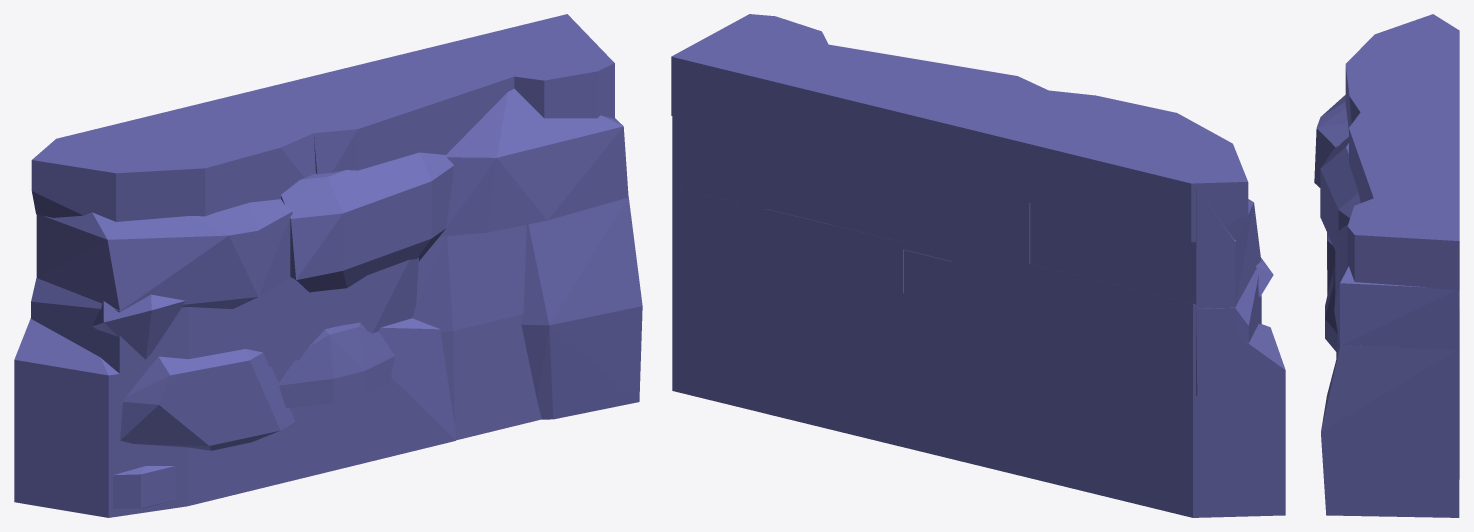
File: Cliff_Corner_03_Collider_01.FBX
3 renders of one model, left to right at view 1: azimuth 30°, elevation 25°; view 2: azimuth 150°, elevation 25°; view 3: azimuth 270°, elevation 25°, orthographic. The views are drawn at different scales.
Parts seen in each view (by area): view 1: COLLIDER5, COLLIDER3, COLLIDER8, COLLIDER7, COLLIDER1, COLLIDER9, COLLIDER11, COLLIDER2, COLLIDER10, COLLIDER12, COLLIDER4, COLLIDER13 (+2 smaller); view 2: COLLIDER5, COLLIDER9, COLLIDER3, COLLIDER1, COLLIDER8, COLLIDER7, COLLIDER10, COLLIDER4, COLLIDER11, COLLIDER2; view 3: COLLIDER8, COLLIDER4, COLLIDER3, COLLIDER1, COLLIDER11, COLLIDER10, COLLIDER7, COLLIDER13, COLLIDER12, COLLIDER9.
Part boxes in pixels (x1=…): COLLIDER5: x1=14, y1=318, x2=455, y2=517; COLLIDER3: x1=31, y1=90, x2=315, y2=221; COLLIDER8: x1=521, y1=197, x2=642, y2=419; COLLIDER7: x1=36, y1=199, x2=292, y2=311; COLLIDER1: x1=255, y1=39, x2=514, y2=174; COLLIDER9: x1=412, y1=225, x2=541, y2=440; COLLIDER11: x1=440, y1=88, x2=628, y2=236; COLLIDER2: x1=31, y1=257, x2=418, y2=394; COLLIDER10: x1=281, y1=152, x2=454, y2=292; COLLIDER12: x1=120, y1=349, x2=295, y2=450; COLLIDER4: x1=464, y1=14, x2=614, y2=118; COLLIDER13: x1=278, y1=322, x2=395, y2=408; COLLIDER5: x1=903, y1=261, x2=1285, y2=517; COLLIDER9: x1=766, y1=209, x2=903, y2=446; COLLIDER3: x1=989, y1=90, x2=1248, y2=242; COLLIDER1: x1=777, y1=44, x2=1048, y2=192; COLLIDER8: x1=672, y1=187, x2=766, y2=413; COLLIDER7: x1=1030, y1=188, x2=1260, y2=308; COLLIDER10: x1=833, y1=155, x2=1030, y2=279; COLLIDER4: x1=671, y1=14, x2=828, y2=141; COLLIDER11: x1=672, y1=116, x2=833, y2=224; COLLIDER2: x1=904, y1=250, x2=1261, y2=396; COLLIDER8: x1=1321, y1=345, x2=1459, y2=517; COLLIDER4: x1=1347, y1=198, x2=1459, y2=290; COLLIDER3: x1=1345, y1=14, x2=1459, y2=131; COLLIDER1: x1=1349, y1=112, x2=1459, y2=202; COLLIDER11: x1=1334, y1=224, x2=1459, y2=349; COLLIDER10: x1=1320, y1=137, x2=1360, y2=255; COLLIDER7: x1=1314, y1=95, x2=1348, y2=187; COLLIDER13: x1=1325, y1=267, x2=1337, y2=351; COLLIDER12: x1=1327, y1=233, x2=1335, y2=294; COLLIDER9: x1=1459, y1=290, x2=1459, y2=479.
Bounding box in the file's own units: 1221 × 662 × 315.
